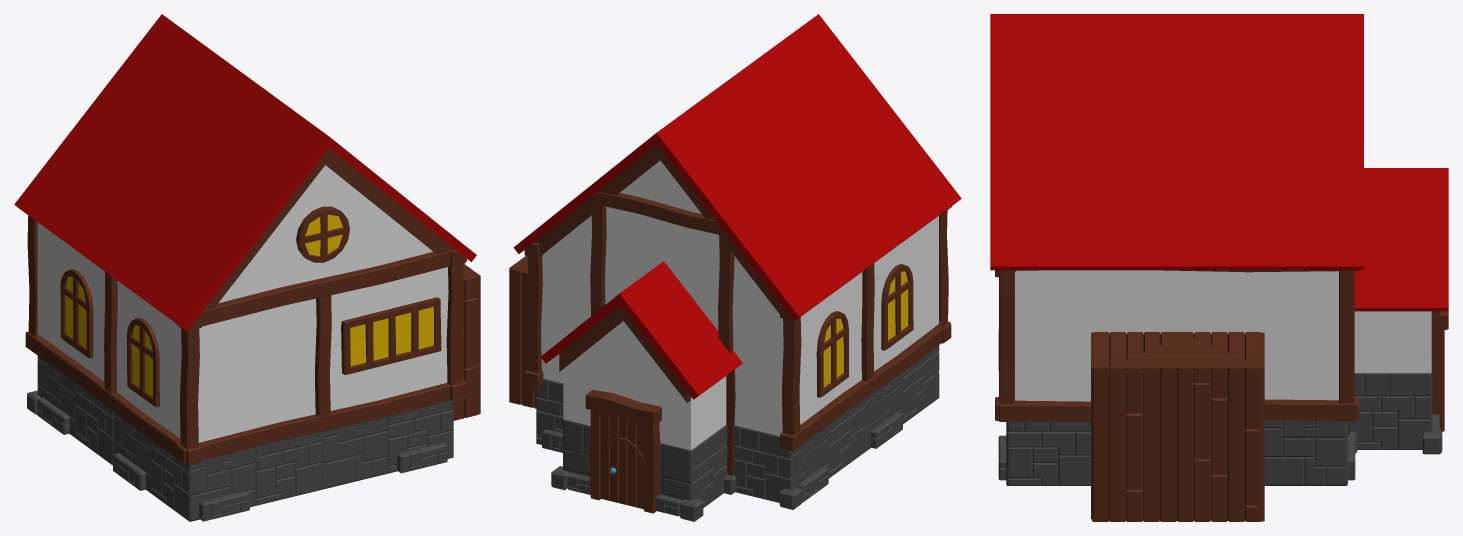
Rendered from Full_House_11.fbx.
3 renders of one model, left to right at view 1: azimuth 30°, elevation 25°; view 2: azimuth 150°, elevation 25°; view 3: azimuth 270°, elevation 25°, orthographic. The views are drawn at different scales.
Visible parts, largest first — view 1: Test_House1, Window_Large9, Beam22, Beam20, Wood_Floor_LOD0; view 2: Test_House1, Wood_Door_LOD0, Beam20, Wood_Floor_LOD0, Beam_Corner1; view 3: Test_House1, Wood_Floor_LOD0, Beam21.
Boxes of the visible parts, bbox=[...] form: Test_House1: bbox=[14, 14, 476, 521]; Window_Large9: bbox=[341, 297, 441, 374]; Beam22: bbox=[176, 379, 466, 464]; Beam20: bbox=[25, 330, 201, 465]; Wood_Floor_LOD0: bbox=[453, 263, 480, 420]; Test_House1: bbox=[513, 14, 961, 521]; Wood_Door_LOD0: bbox=[600, 412, 643, 509]; Beam20: bbox=[780, 321, 950, 451]; Wood_Floor_LOD0: bbox=[509, 256, 536, 408]; Beam_Corner1: bbox=[726, 369, 735, 475]; Test_House1: bbox=[990, 14, 1448, 485]; Wood_Floor_LOD0: bbox=[1091, 332, 1264, 521]; Beam21: bbox=[995, 396, 1358, 422].
Size of what is drawn, in the model's own units: 5.24 by 5.21 by 5.4.
